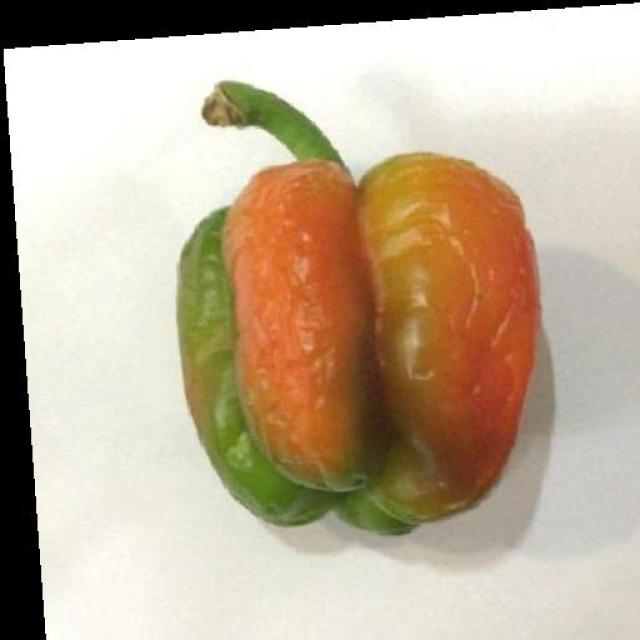Stale_Capsicum: (156, 157, 555, 539)
